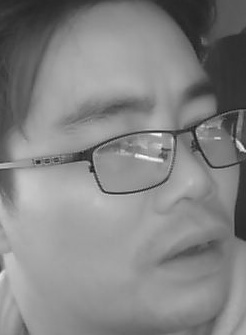glass: (87, 129, 179, 193), (191, 106, 245, 170)
mouth: (155, 226, 230, 272)
